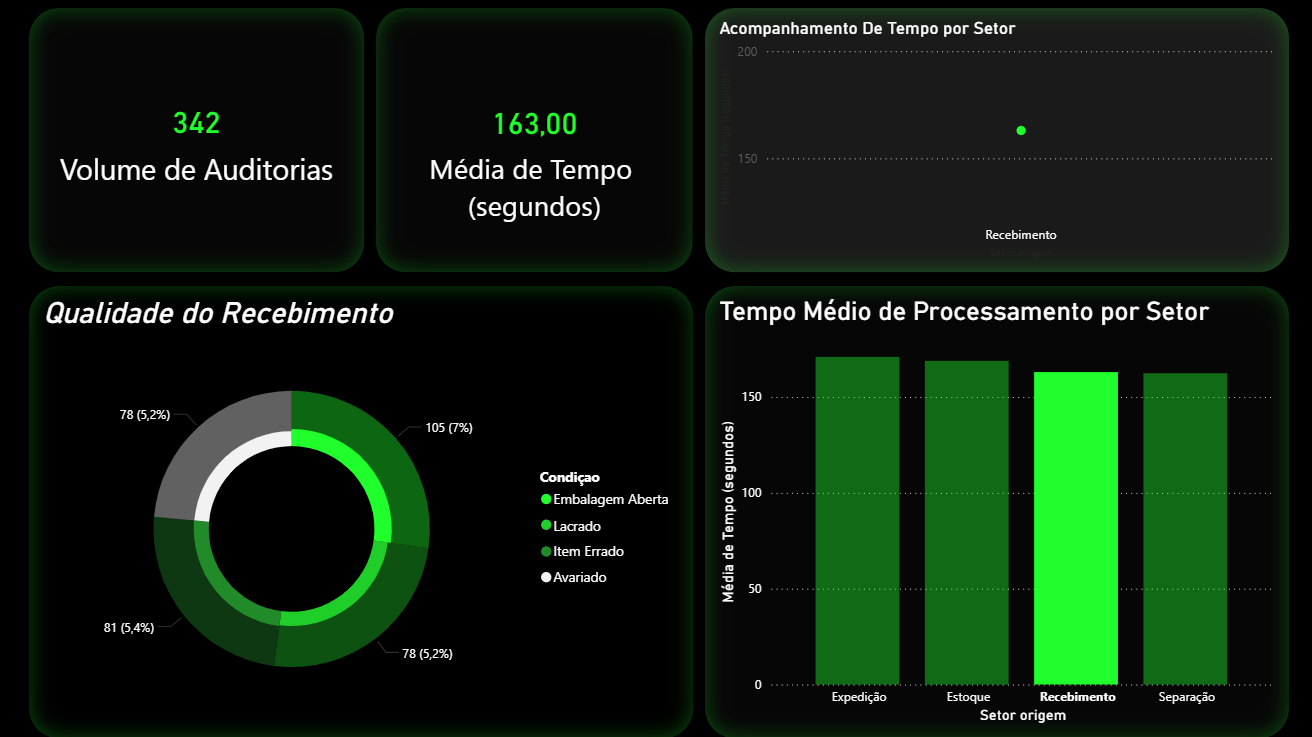

The dashboard page shown, as its layout file describes it:
{"tool":"powerbi","page":{"name":"Página 1","canvas":[1280,720],"ordinal":0},"visuals":[{"type":"clusteredColumnChart","title":"Tempo Médio de Processamento por Setor","fields":{"Category":["base_completa_cajamar csv.Setor origem"],"Y":["Avg(base_completa_cajamar csv.Tempo (segundos))"]},"box":[686.7,278.2,570,441.6],"z":0},{"type":"card","fields":{"Values":["CountNonNull(base_completa_cajamar csv.ID)"]},"box":[29.2,7.8,327.8,258.7],"z":1000},{"type":"donutChart","title":"Qualidade do Recebimento","fields":{"Category":["base_completa_cajamar csv.Condiçao"],"Y":["CountNonNull(base_completa_cajamar csv.ID)"]},"box":[29.2,278.2,647.8,441.6],"z":2000},{"type":"card","fields":{"Values":["Avg(base_completa_cajamar csv.Tempo (segundos))"]},"box":[366.7,7.8,310.3,258.7],"z":3000},{"type":"areaChart","title":"Acompanhamento De Tempo por Setor","fields":{"Category":["base_completa_cajamar csv.Setor origem"],"Y":["Avg(base_completa_cajamar csv.Tempo (segundos))"]},"box":[686.7,7.8,570,258.7],"z":4000}]}

Visuals, with their boxes in screenshot pixels (x1, y1, x2, y2), scaled from the page's 1280x720 canvas onto the 1312x737 screenshot:
"Tempo Médio de Processamento por Setor" clusteredColumnChart: box=[704, 285, 1288, 736]
card - CountNonNull(base_completa_cajamar csv.ID): box=[30, 8, 366, 273]
"Qualidade do Recebimento" donutChart: box=[30, 285, 694, 736]
card - Avg(base_completa_cajamar csv.Tempo (segundos)): box=[376, 8, 694, 273]
"Acompanhamento De Tempo por Setor" areaChart: box=[704, 8, 1288, 273]
